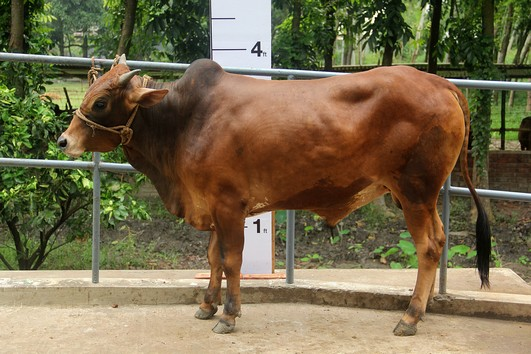cow: (51, 50, 485, 339)
